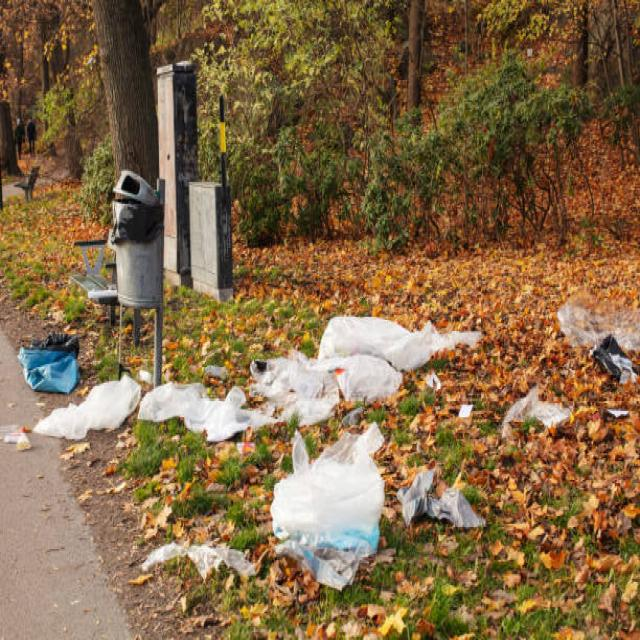plastic: (27, 312, 460, 439), (284, 450, 388, 585)
trash: (94, 168, 179, 301)
